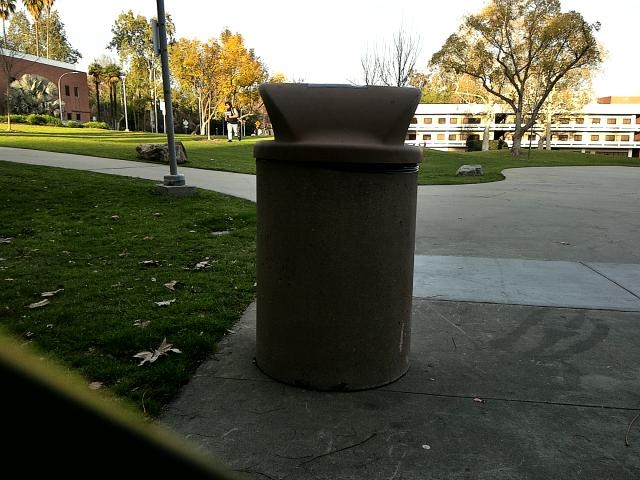trashcan: (246, 80, 429, 388)
